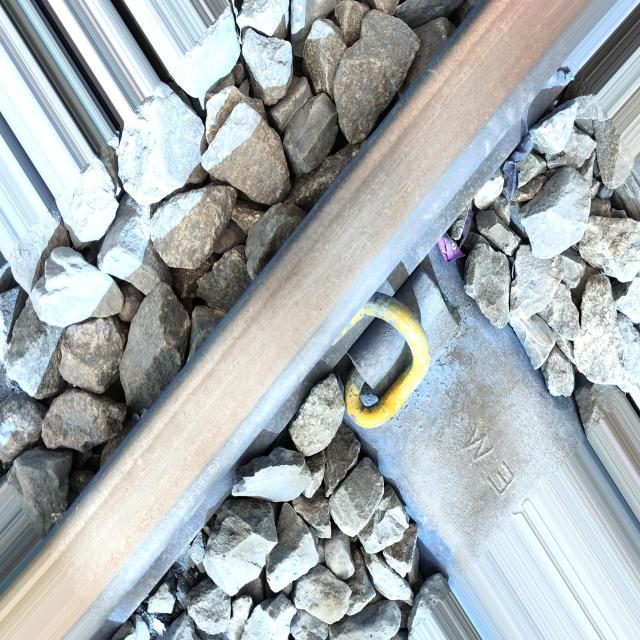Good Fasteners: (324, 266, 474, 448)
